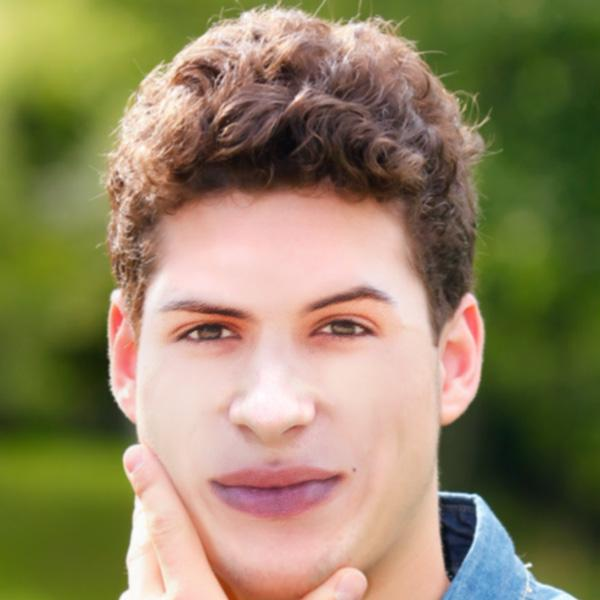Eyes: (163, 307, 251, 359), (302, 305, 382, 353)
